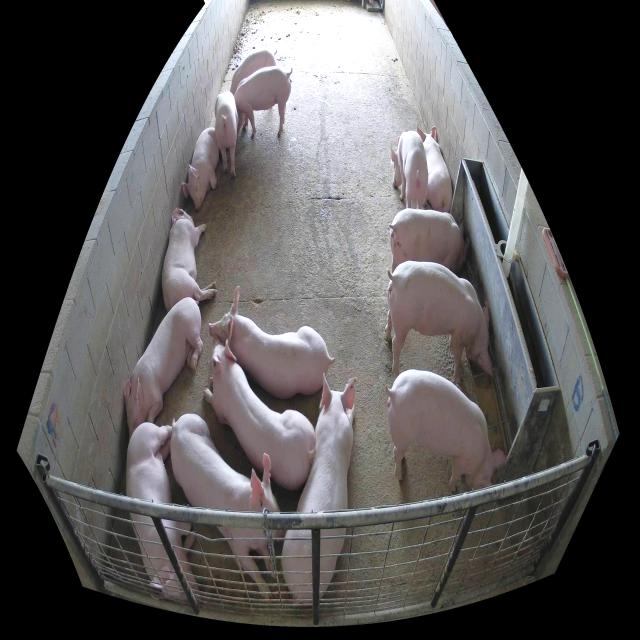pig: (170, 414, 289, 604), (281, 374, 357, 608), (201, 337, 316, 491), (386, 370, 506, 492), (126, 423, 204, 605), (384, 260, 493, 381), (210, 286, 332, 394), (125, 299, 203, 438), (161, 206, 218, 314), (389, 209, 469, 275), (232, 66, 292, 140), (416, 123, 452, 212), (181, 128, 219, 212), (390, 130, 428, 208), (230, 49, 277, 94), (215, 91, 238, 178)
